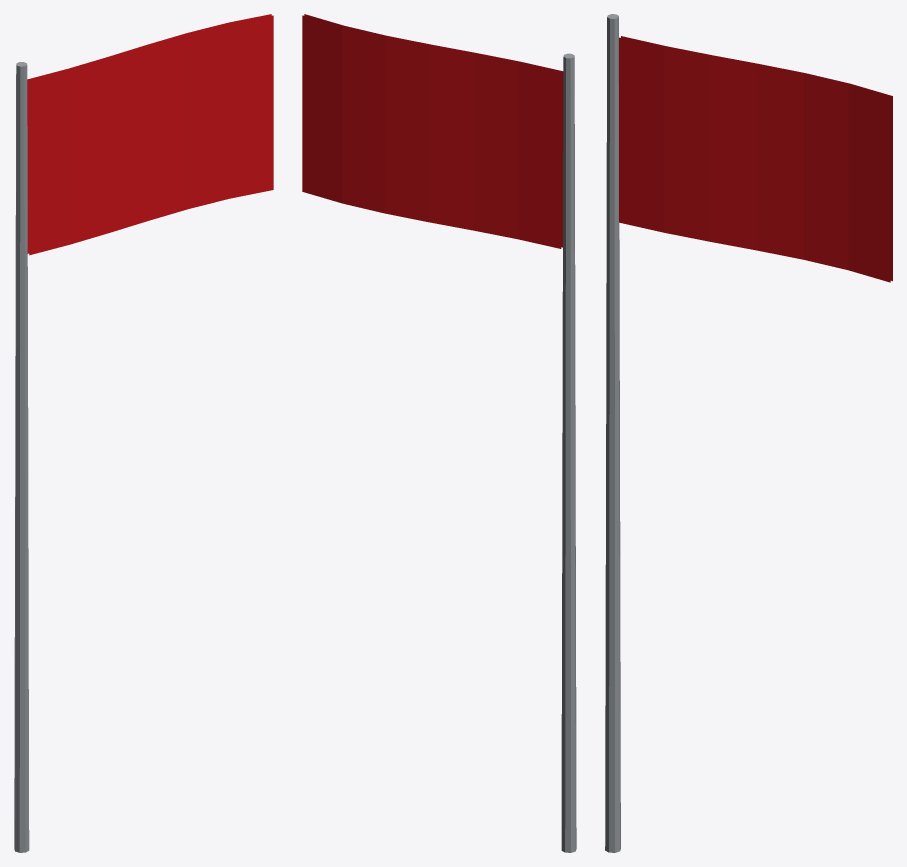
The model's file is flagRed.glb.
3 views of the same model, side by side, from view 1: azimuth 30°, elevation 25°; view 2: azimuth 150°, elevation 25°; view 3: azimuth 330°, elevation 25° (orthographic). The views are drawn at different scales.
Parts seen in each view (by area): view 1: flag; view 2: flag; view 3: flag.
Boxes of the visible parts, x1,y1,x2,y2 form: flag: (14,14,273,852); flag: (302,14,576,852); flag: (605,14,892,852).
Size of the model in its own units: 1.58 by 4.5 by 0.1328.
